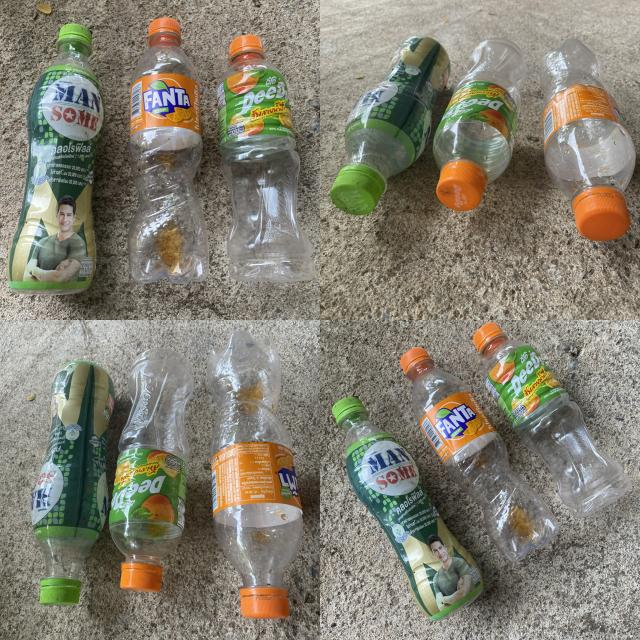plastik: (332, 396, 484, 620), (400, 348, 559, 561), (474, 322, 631, 518), (208, 330, 302, 618), (9, 24, 104, 293), (218, 35, 314, 282), (330, 36, 450, 215), (129, 18, 209, 284), (110, 349, 194, 592), (31, 361, 114, 605), (539, 39, 635, 241), (434, 38, 526, 211)
